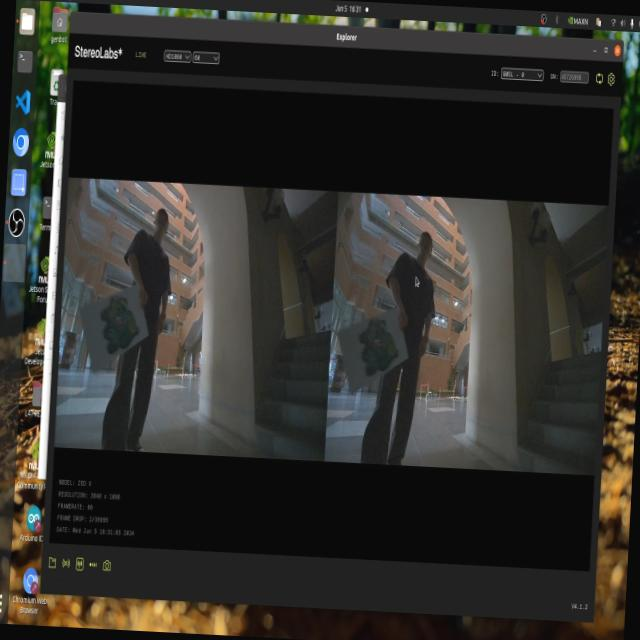green: (102, 290, 146, 360), (370, 326, 408, 396)
